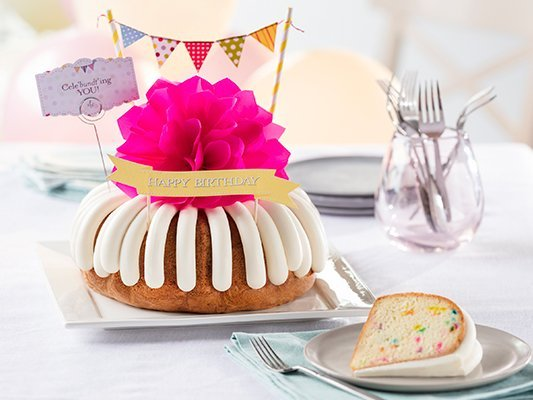burger: (246, 334, 386, 400), (417, 78, 447, 234)
pizza: (374, 79, 488, 254)
